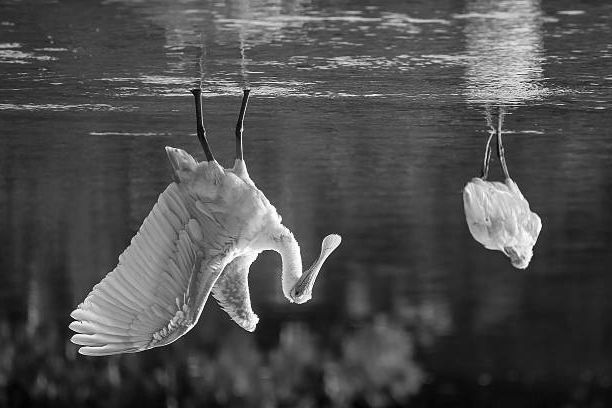Bird: (63, 83, 345, 362), (458, 124, 542, 270)
